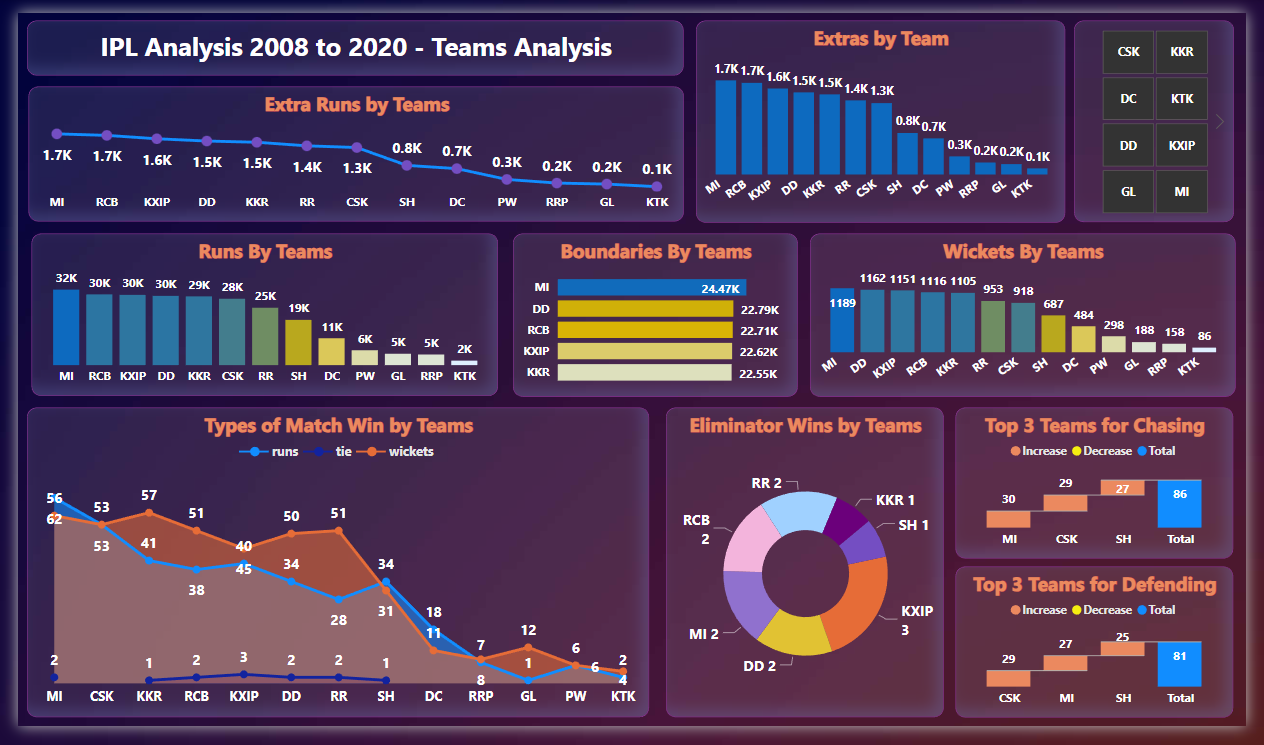

Layout of this report page (visuals, bound fields, positions):
{"tool":"powerbi","page":{"name":"Teams","canvas":[1280,743],"ordinal":2},"visuals":[{"type":"textbox","box":[10,7.1,684.3,57.1],"z":0},{"type":"columnChart","title":"Wickets By Teams","fields":{"Category":["Ball_by_Ball.batting_team"],"Y":["Sum(Ball_by_Ball.is_wicket)"]},"box":[818.3,229,449,169.9],"z":1000},{"type":"columnChart","title":"Runs By Teams","fields":{"Category":["Ball_by_Ball.batting_team"],"Y":["Sum(Ball_by_Ball.total_runs)"]},"box":[14.6,229.7,486.1,169.6],"z":2000},{"type":"clusteredBarChart","title":"Boundaries By Teams","fields":{"Category":["Ball_by_Ball.batting_team"],"Y":["CountNonNull(Ball_by_Ball.non_boundary)"]},"box":[511.1,229,296.9,169.9],"z":3000},{"type":"areaChart","title":"Types of Match Win by Teams","fields":{"Category":["Team Wise Wining Type.Winner"],"Y":["Sum(Team Wise Wining Type.No_OF_Wins)"],"Series":["Team Wise Wining Type.Result"]},"box":[9.6,410.9,648.1,322.5],"z":4000},{"type":"pieChart","title":"Eliminator Wins by Teams","fields":{"Category":["Match_Details.winner"],"Y":["CountNonNull(Match_Details.id)"]},"box":[674.3,410.9,289.2,322.5],"z":5000},{"type":"waterfallChart","title":"Top 3 Teams for Chasing","fields":{"Category":["Team Wise Wining Type Percentage.Team1"],"Y":["Max(Team Wise Wining Type Percentage.Chasing %)"]},"box":[977.2,410.9,289.2,157.5],"z":6000},{"type":"waterfallChart","title":"Top 3 Teams for Defending","fields":{"Category":["Team Wise Wining Type Percentage.Team1"],"Y":["Max(Team Wise Wining Type Percentage.Defending %)"]},"box":[977.2,575.9,289.2,157.5],"z":7000},{"type":"clusteredColumnChart","title":"Extras by Team","fields":{"Category":["Extras by Team.Team"],"Y":["Max(Extras by Team.Tot_Extras)"]},"box":[705.6,7.6,384.6,210.5],"z":8000},{"type":"lineChart","title":"Extra Runs by Teams","fields":{"Category":["Ball_by_Ball.bowling_team"],"Y":["Sum(Ball_by_Ball.extra_runs)"]},"box":[10.6,77.2,682.9,140.8],"z":9000},{"type":"slicer","fields":{"Values":["Team Wise Wining Type Percentage.Team1"]},"box":[1100.5,7.4,166.9,209.8],"z":10000}]}

Visuals, with their boxes in screenshot pixels (x1, y1, x2, y2), scaled from the page's 1280x743 canvas onto the 1264x745 screenshot:
textbox: [10, 7, 686, 64]
"Wickets By Teams" columnChart: [808, 230, 1251, 400]
"Runs By Teams" columnChart: [14, 230, 494, 400]
"Boundaries By Teams" clusteredBarChart: [505, 230, 798, 400]
"Types of Match Win by Teams" areaChart: [9, 412, 649, 735]
"Eliminator Wins by Teams" pieChart: [666, 412, 951, 735]
"Top 3 Teams for Chasing" waterfallChart: [965, 412, 1251, 570]
"Top 3 Teams for Defending" waterfallChart: [965, 577, 1251, 735]
"Extras by Team" clusteredColumnChart: [697, 8, 1077, 219]
"Extra Runs by Teams" lineChart: [10, 77, 685, 219]
slicer - Team Wise Wining Type Percentage.Team1: [1087, 7, 1252, 218]
